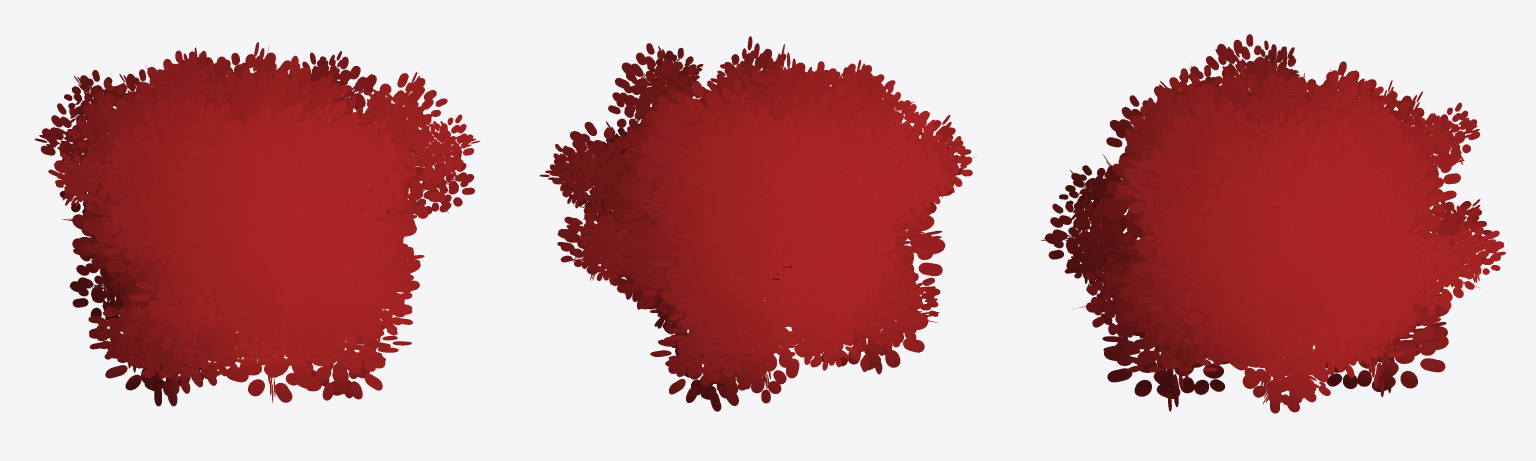
File: bush_common.glb
3 renders of one model, left to right at view 1: azimuth 30°, elevation 25°; view 2: azimuth 150°, elevation 25°; view 3: azimuth 270°, elevation 25°, orthographic. The views are drawn at different scales.
Visible parts, largest first — view 1: Bush_Common; view 2: Bush_Common; view 3: Bush_Common.
Part boxes in pixels (x1,y1,x2,y2): Bush_Common: [34, 42, 479, 406]; Bush_Common: [539, 36, 974, 411]; Bush_Common: [1041, 34, 1505, 413].
Size of the model in its own units: 1.91 by 1.58 by 1.97.
1 material, 1 textured.
